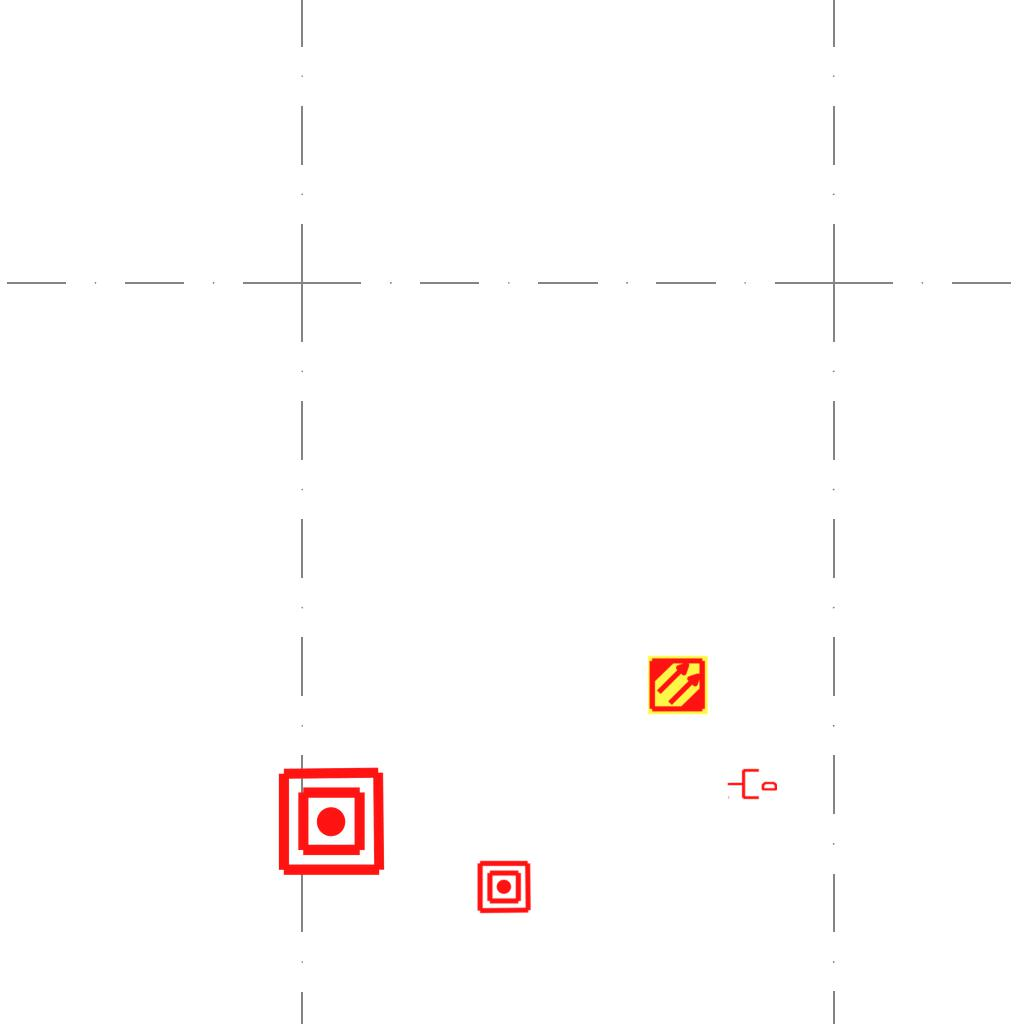ASR_Ansaugrauchmelder: (647, 654, 709, 716)
Datenanschluss_einfach: (727, 767, 777, 801)
NAM-Nichtautomatischer_Melder: (275, 765, 388, 878), (476, 859, 532, 915)
